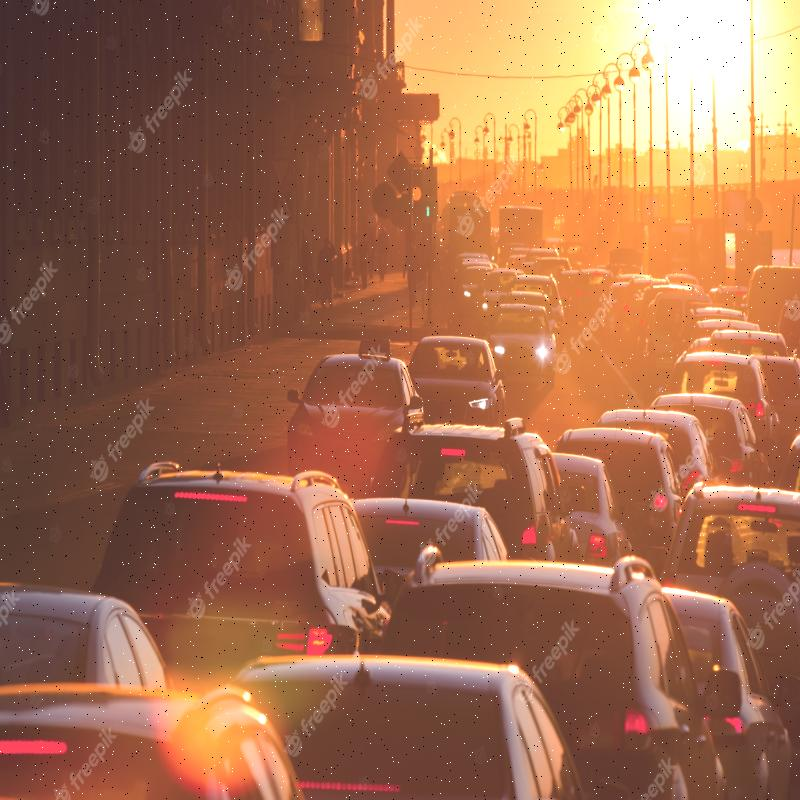car: (400, 517, 691, 800), (106, 470, 364, 725), (204, 634, 599, 800), (0, 566, 183, 800), (256, 302, 399, 478), (420, 336, 524, 453), (496, 294, 570, 390)
